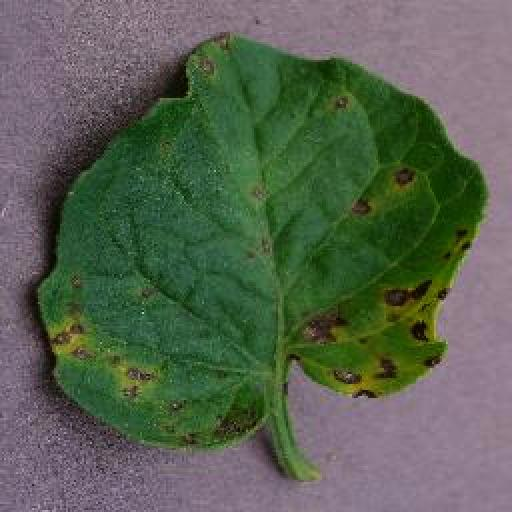disease_tomato: (31, 30, 487, 448)
